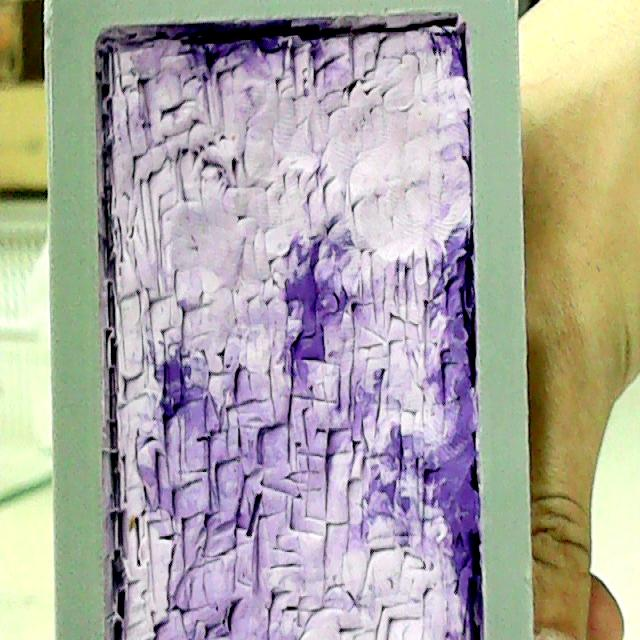block: (44, 3, 542, 640)
